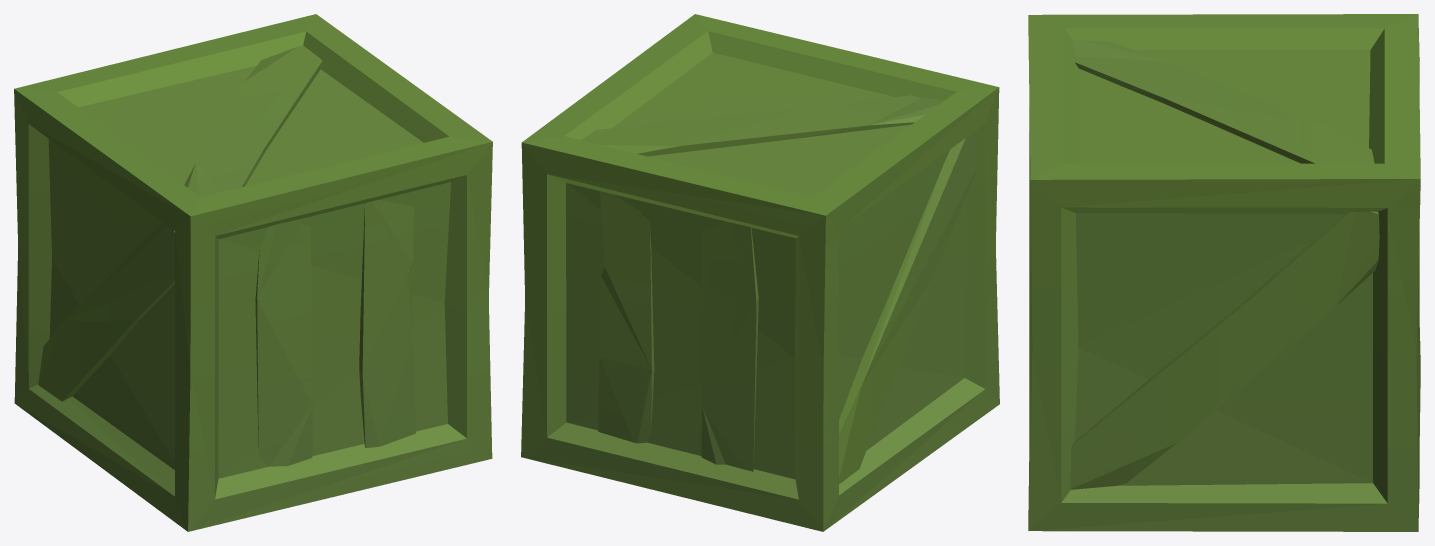
The picture shows the model from 3 angles, left to right: view 1: azimuth 30°, elevation 25°; view 2: azimuth 150°, elevation 25°; view 3: azimuth 270°, elevation 25°; orthographic projection. The views are drawn at different scales.
Parts seen in each view (by area): view 1: Box_03; view 2: Box_03; view 3: Box_03.
Part boxes in pixels (x1,y1,x2,y2): Box_03: [14, 14, 492, 531]; Box_03: [521, 14, 999, 531]; Box_03: [1028, 14, 1420, 531].
Bounding box in the file's own units: 0.9129 × 0.9087 × 0.9131.
